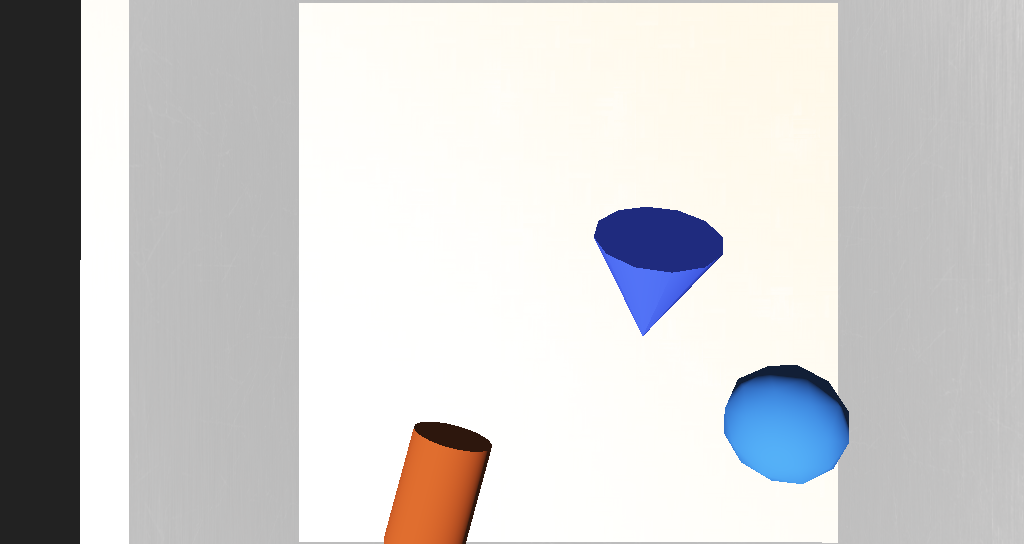cone: (397, 324, 465, 382)
cylinder: (512, 246, 579, 308)
sphere: (589, 301, 650, 348)
